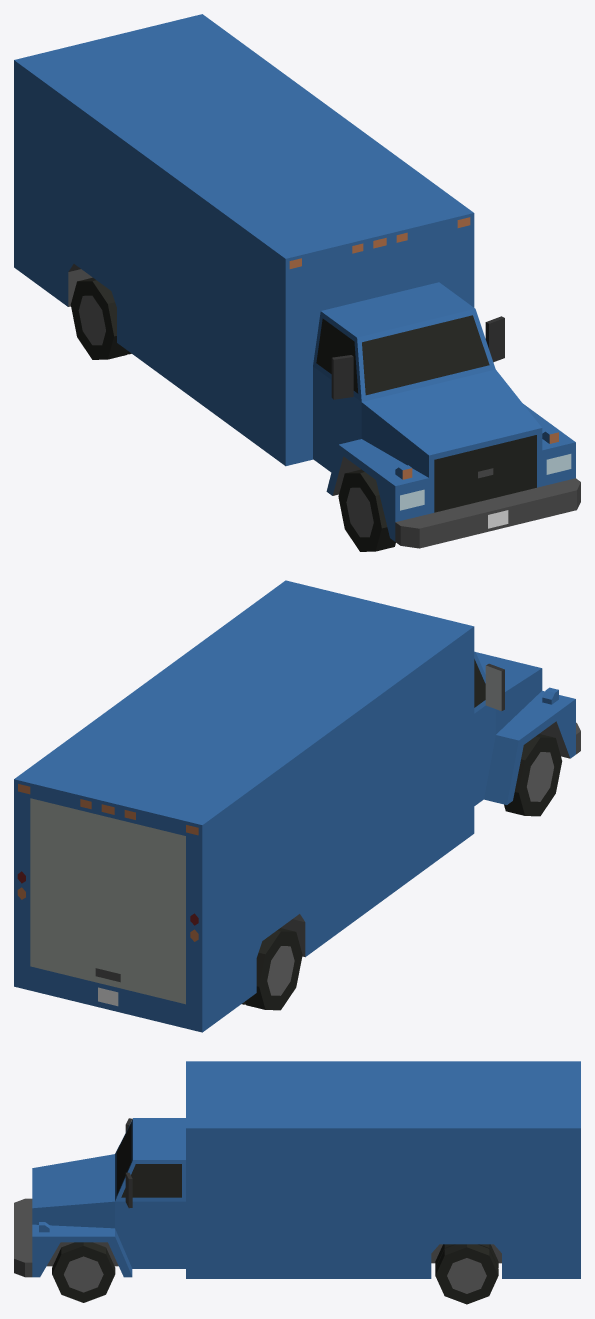
The model's file is Veh_Truck_01_Blue.obj.
3 views of the same model, one above another, from view 1: azimuth 30°, elevation 25°; view 2: azimuth 150°, elevation 25°; view 3: azimuth 270°, elevation 25° (orthographic). The views are drawn at different scales.
Bounding box in the file's own units: 1.35 × 1.66 × 4.85.
